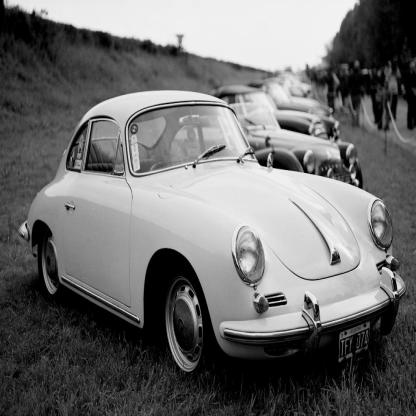Car: (18, 71, 407, 384)
